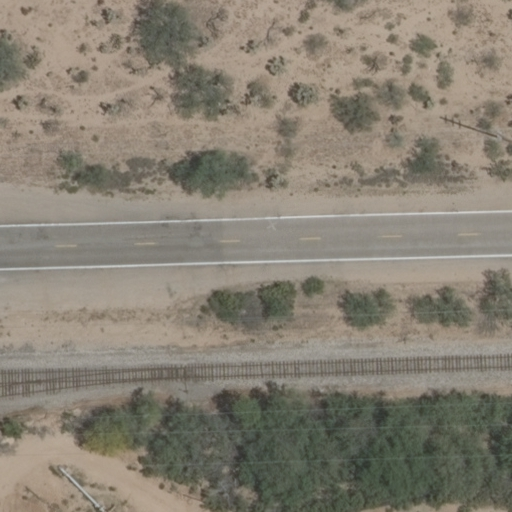DT: (436, 114, 499, 138)
